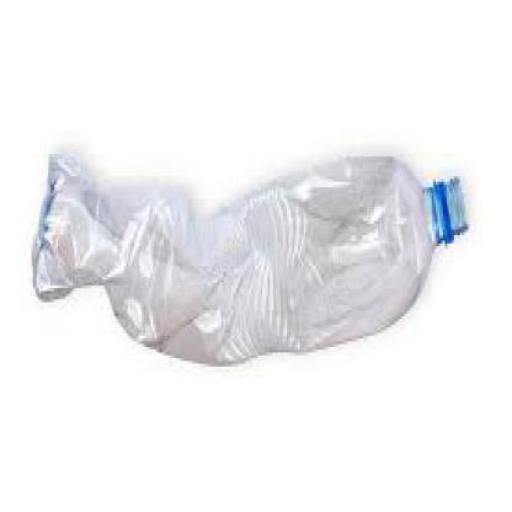plastic: (35, 156, 471, 370)
